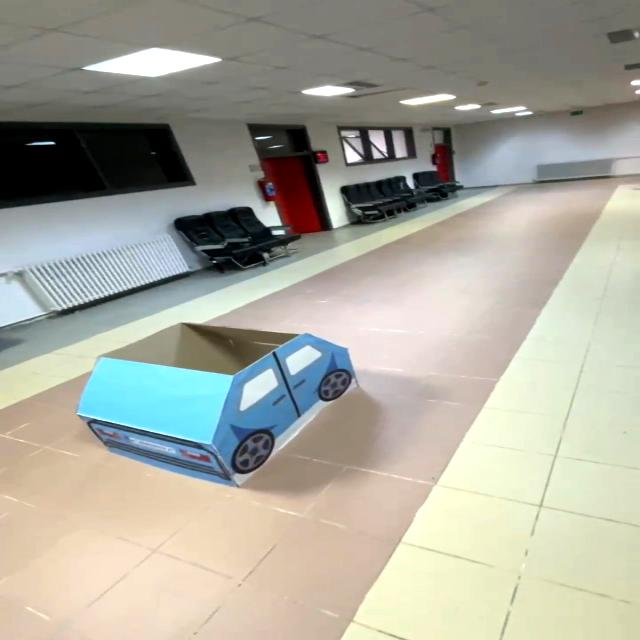blue_car: (6, 301, 418, 512)
